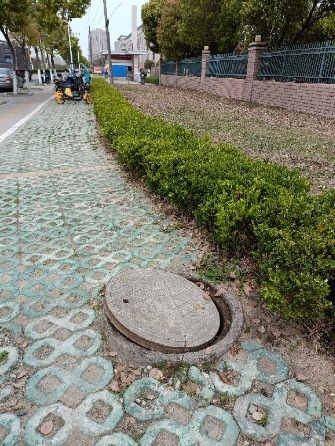uncovered: (99, 265, 244, 366)
